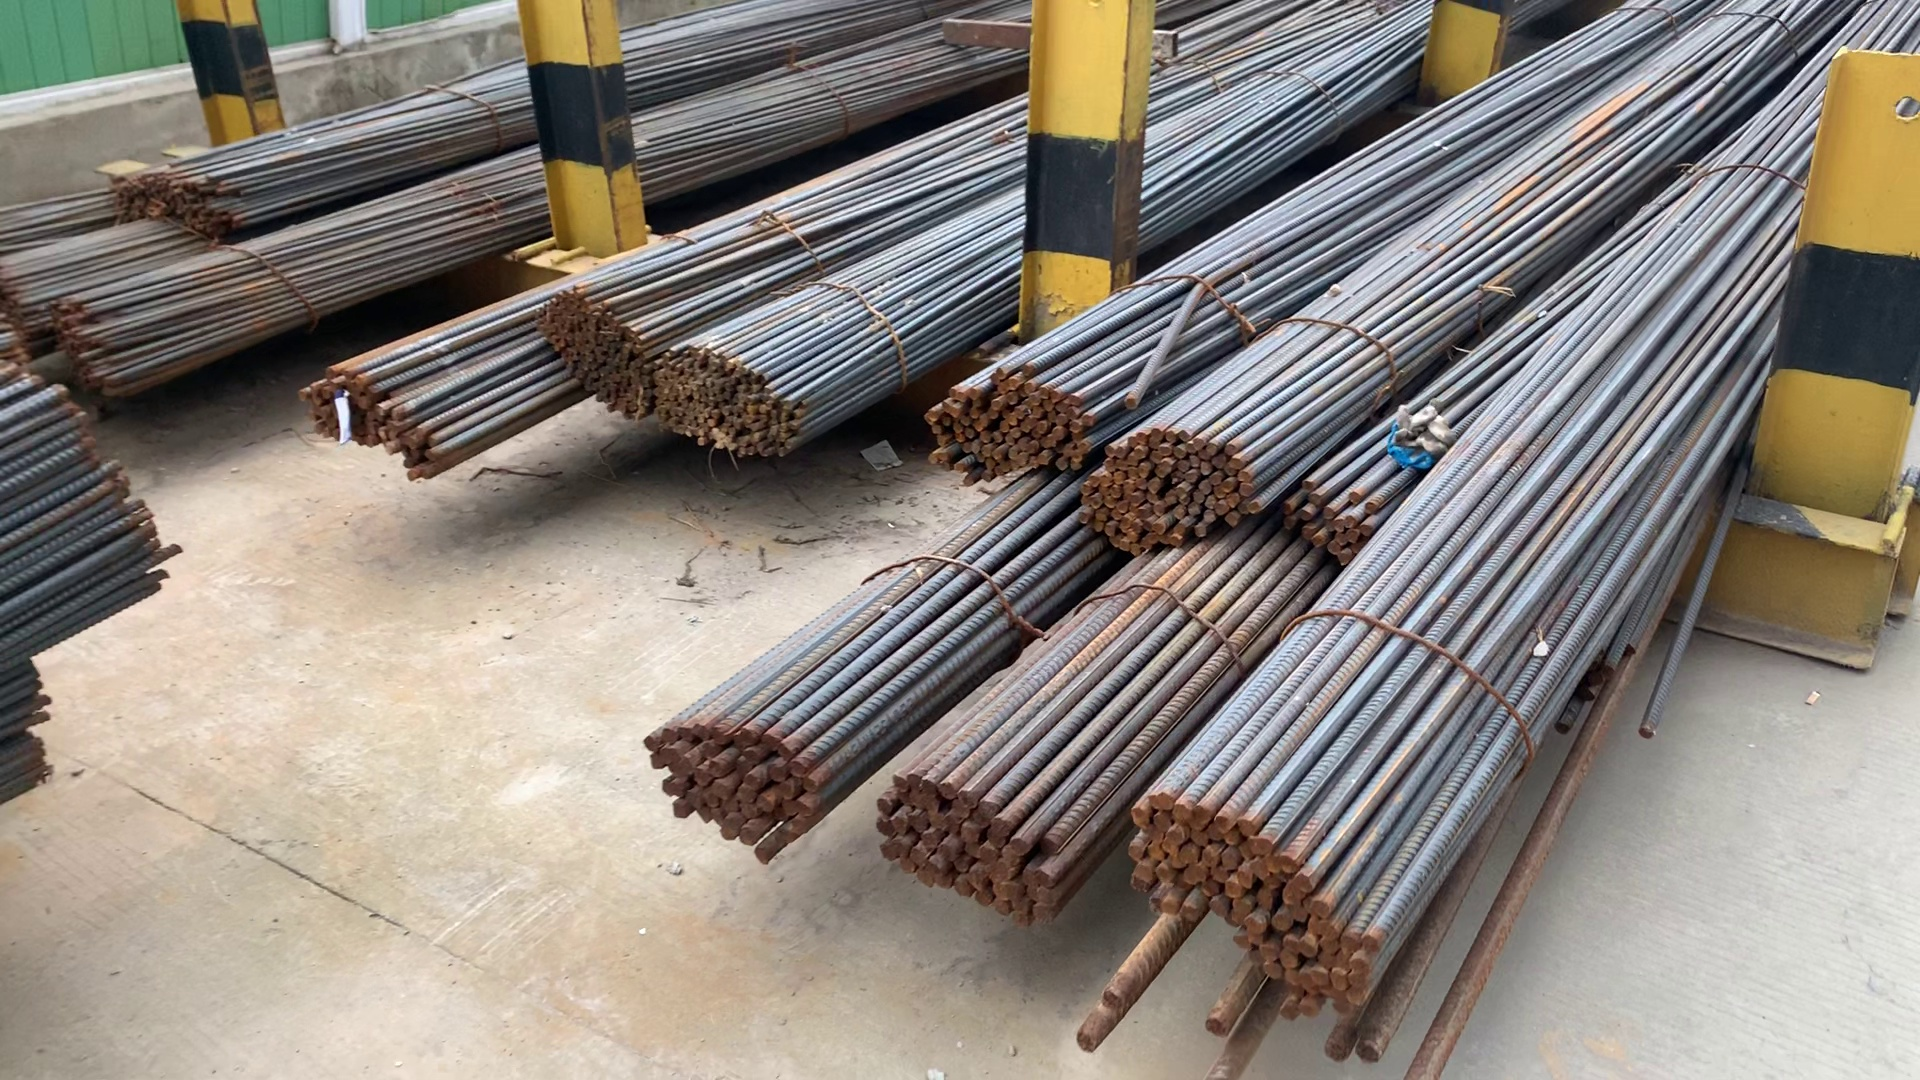rebar: (1120, 793, 1383, 1026), (880, 771, 1073, 927), (642, 723, 819, 860), (1081, 439, 1269, 537), (922, 365, 1089, 468), (306, 368, 447, 483), (659, 353, 803, 460), (537, 287, 657, 415), (116, 167, 243, 239), (1284, 484, 1385, 560), (55, 303, 115, 404)
